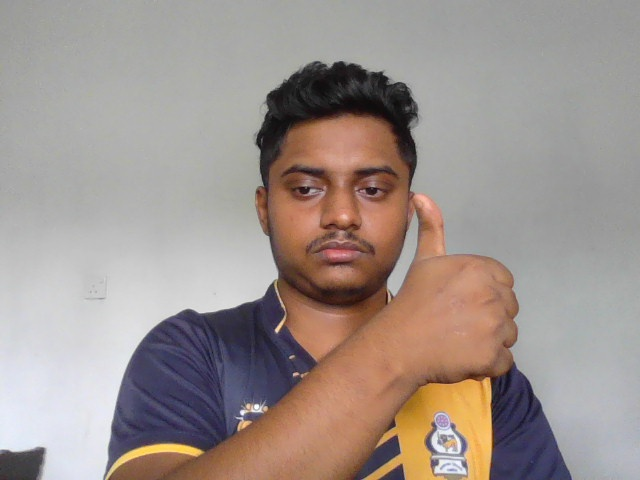Agree: (399, 191, 522, 389)
